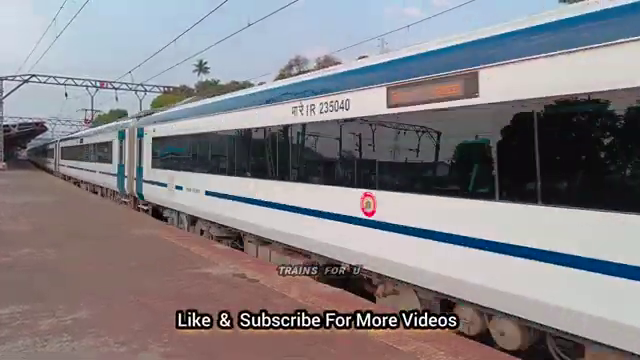Boogie: (312, 93, 354, 118)
